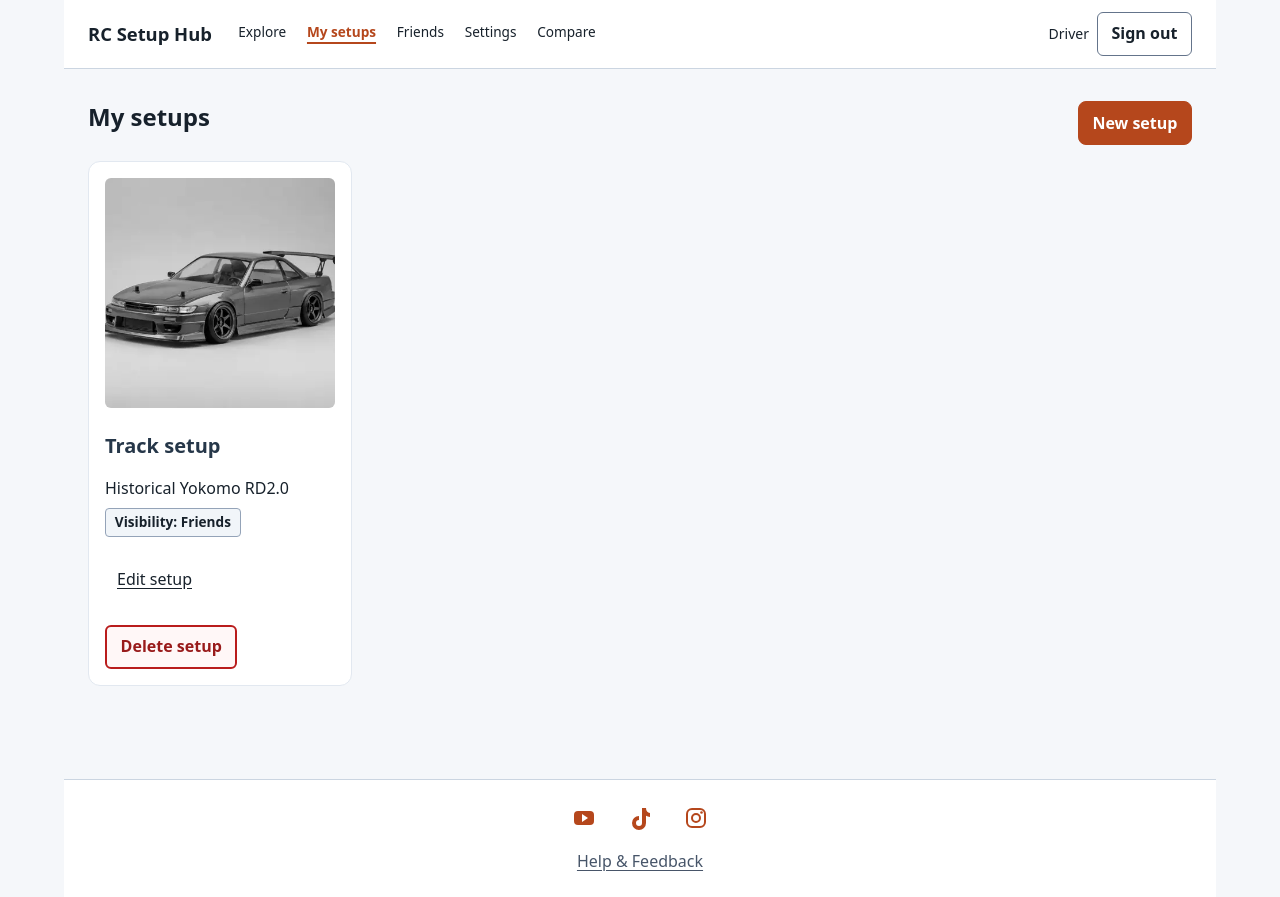
Test case: does not pretend delete 403 succeeded
Expected: the link "Track setup" is shown, [105,424,220,468]
Click the button "Delete setup".
click(171, 647)  # box [105,625,237,669]
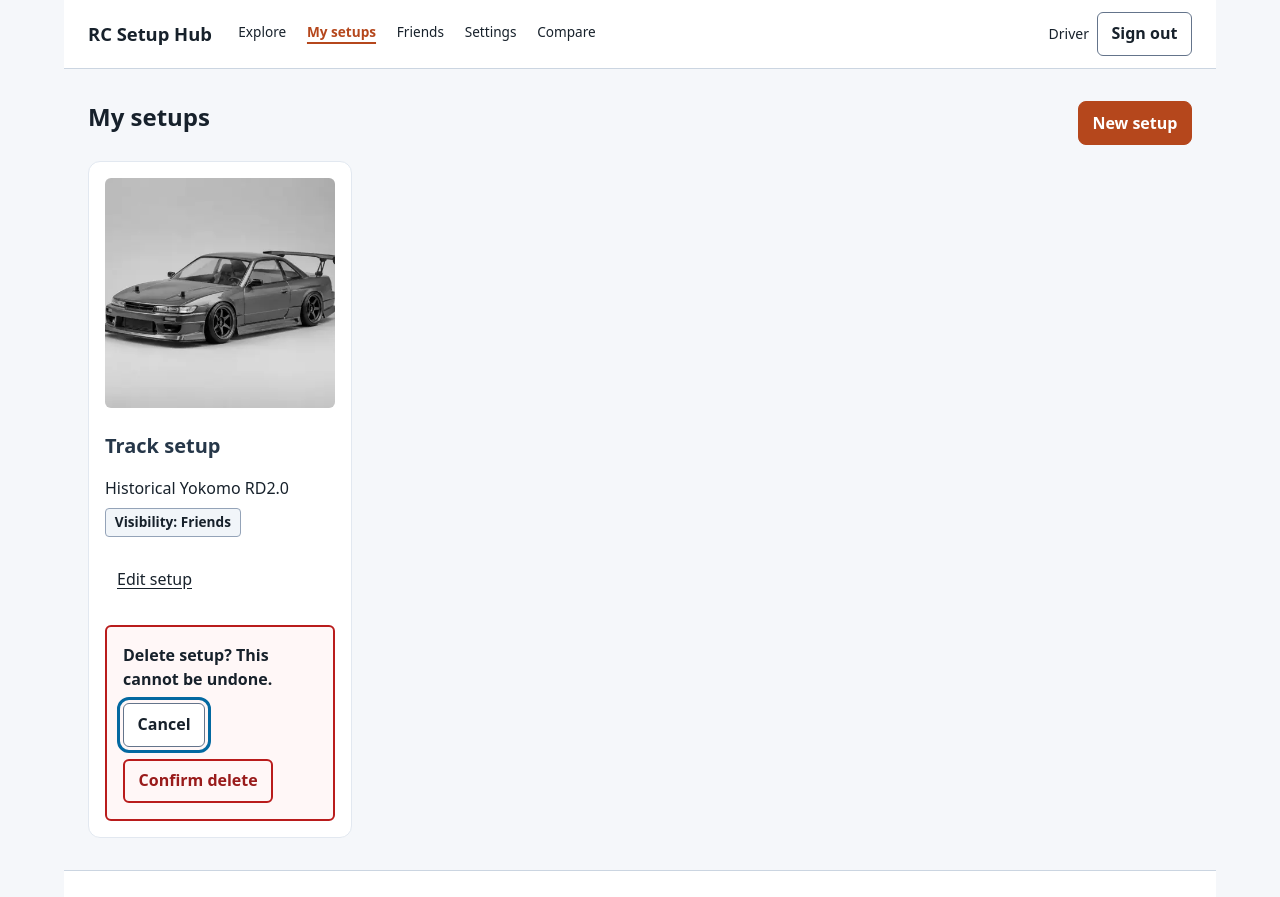
Click the button "Confirm delete".
click(198, 781)  # box [123,759,273,803]
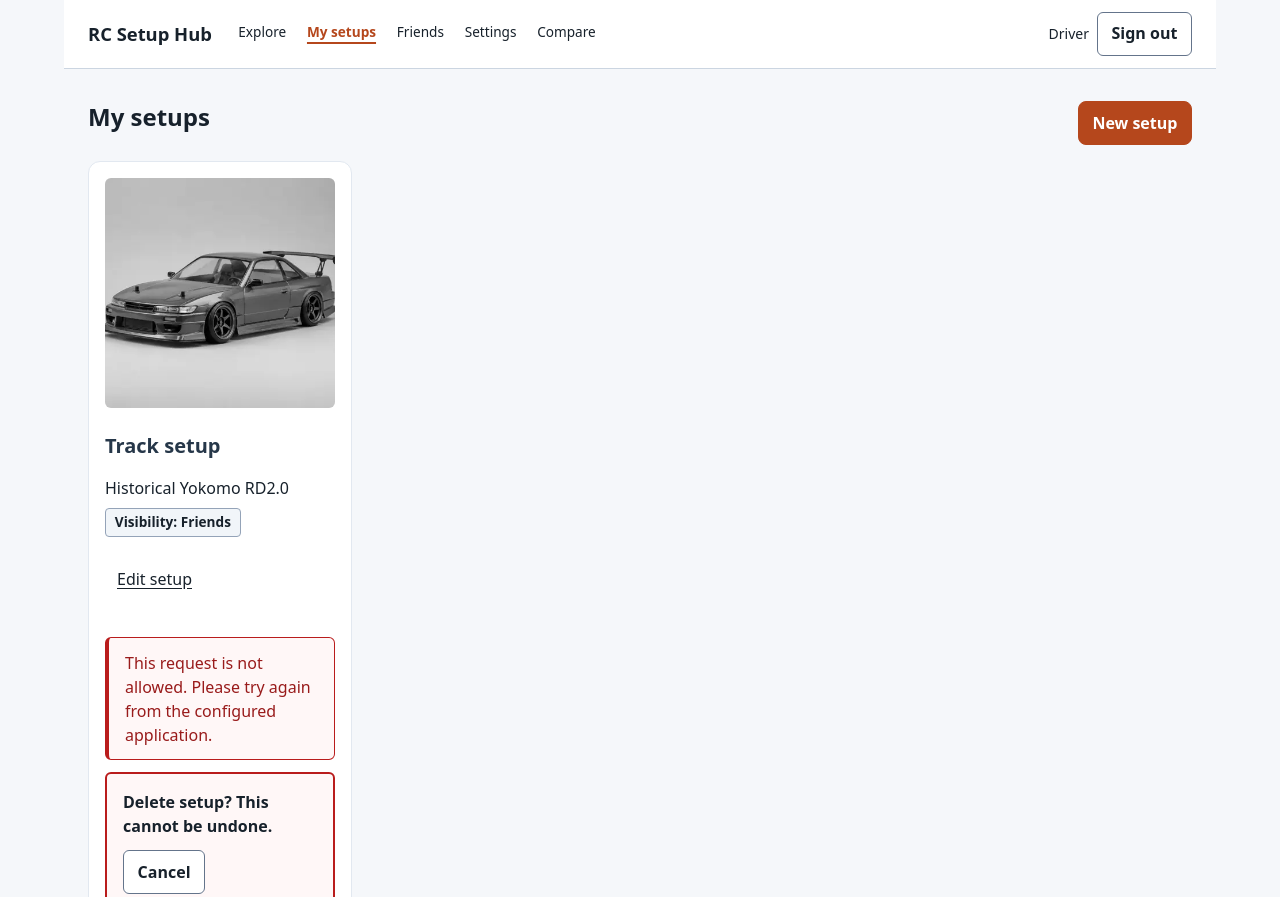
Expected: the link "Track setup" is shown, [105,424,220,468]
Now the message shows "request is not allowed", box [125,652,311,746]
